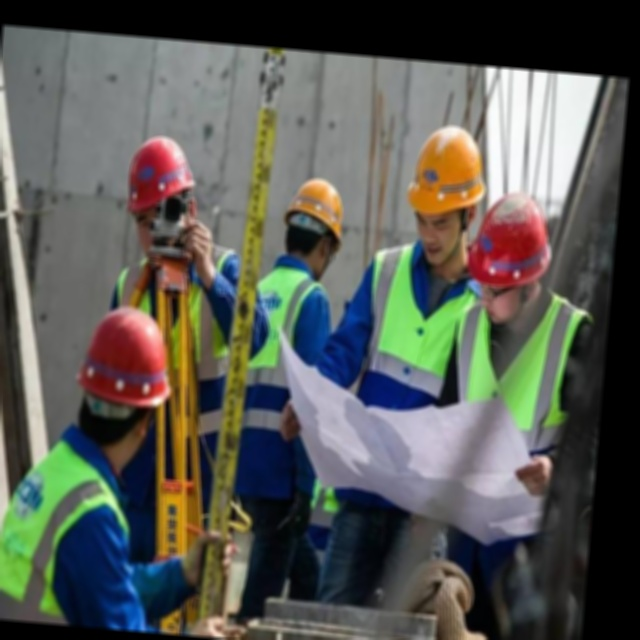Con_Casco: (404, 120, 491, 260)
Con_Chaleco: (0, 449, 141, 616), (456, 289, 590, 427)
